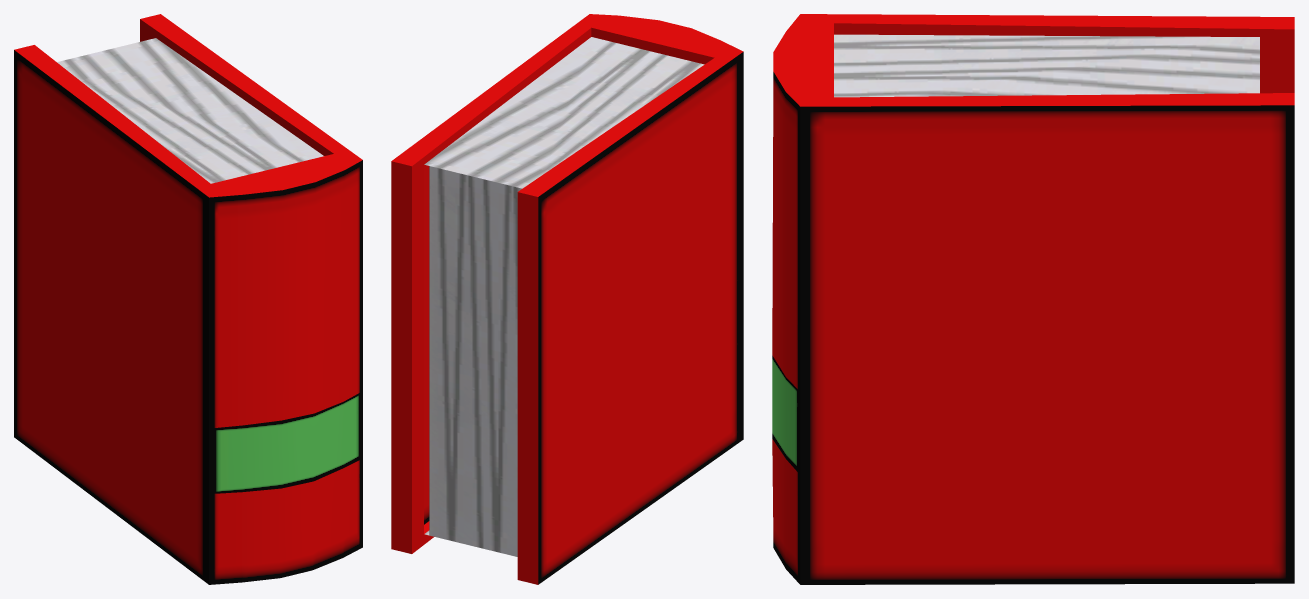
File: Book_Red_Individual.fbx
The picture shows the model from 3 angles, left to right: view 1: azimuth 30°, elevation 25°; view 2: azimuth 150°, elevation 25°; view 3: azimuth 270°, elevation 25°; orthographic projection. The views are drawn at different scales.
Visible parts, largest first — view 1: Book3; view 2: Book3; view 3: Book3.
Boxes of the visible parts, box(x1,y1,x2,y2) form: Book3: box(14, 14, 362, 584); Book3: box(391, 14, 743, 584); Book3: box(772, 14, 1294, 584).
Size of the model in its own units: 12.94 by 31.14 by 30.82.
